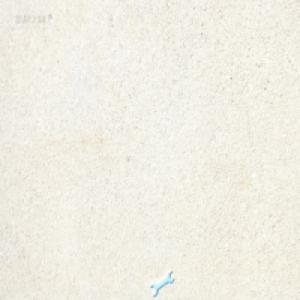Wrench: (151, 270, 175, 297)
